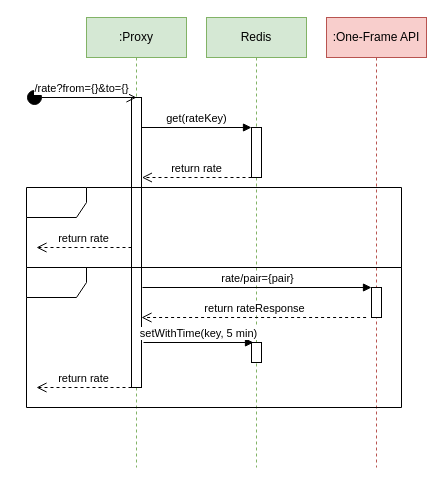
Image size: 444x485. Some labels were removed from this diagram. The box of each missing label's shape, as (x1, y1, x2, y2) in pixels:
else: (26, 266, 402, 408)
if cache valid: (26, 186, 402, 268)
